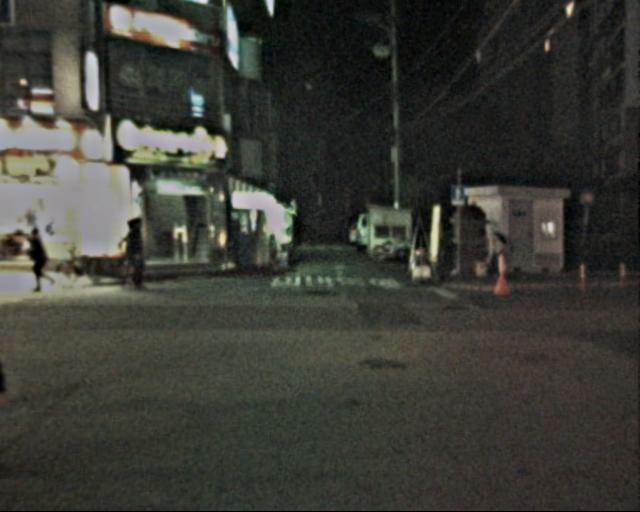person: (24, 221, 63, 295), (122, 213, 154, 293), (480, 219, 506, 283)
